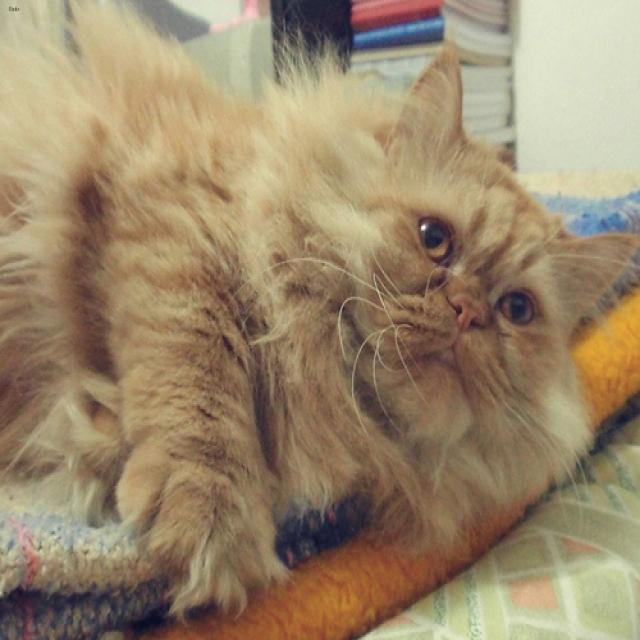Persian: (289, 38, 640, 538)
